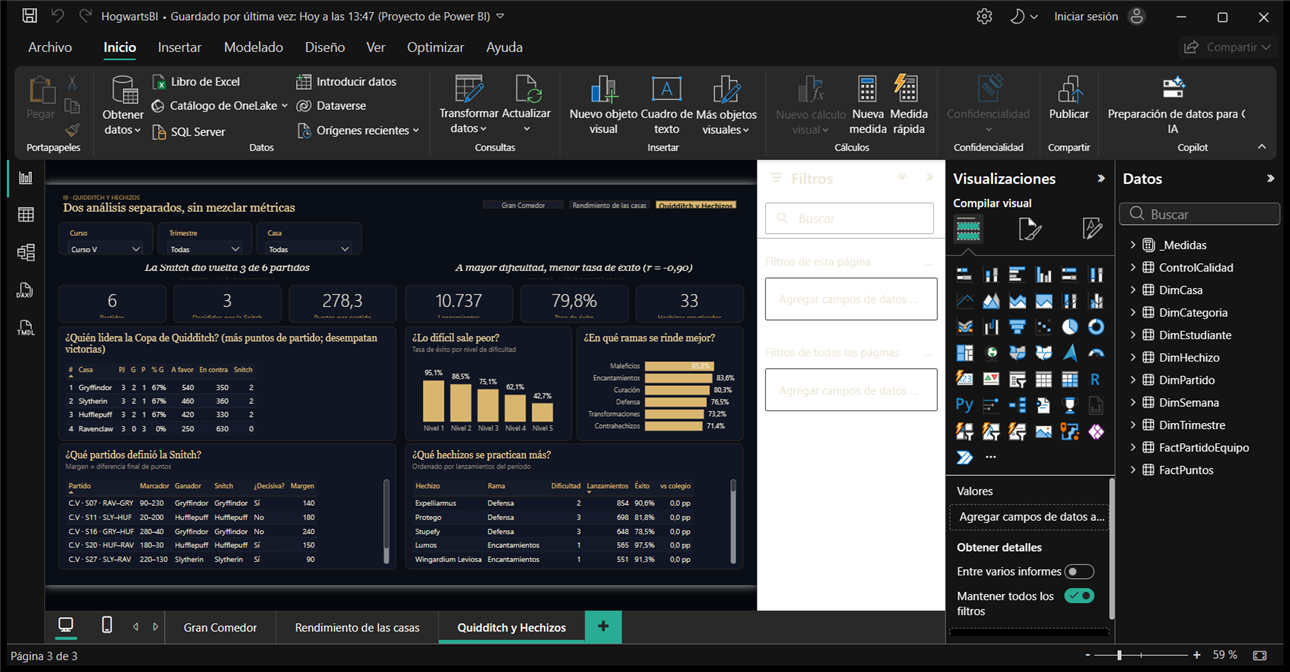

Layout of this report page (visuals, bound fields, positions):
{"tool":"powerbi","page":{"name":"Quidditch y Hechizos","canvas":[1280,720],"ordinal":2},"visuals":[{"type":"image","box":[0,0,1280,112],"z":0},{"type":"textbox","box":[26,16,600,76],"z":100},{"type":"pageNavigator","box":[752,0,495.4,42.5],"z":200},{"type":"slicer","fields":{"Values":["DimTrimestre.Curso"]},"box":[24,120,156,56],"z":300},{"type":"slicer","fields":{"Values":["DimTrimestre.Trimestre"]},"box":[188,120,156,56],"z":400},{"type":"slicer","fields":{"Values":["DimCasa.Casa"]},"box":[352,120,164,56],"z":500},{"type":"slicer","fields":{"Values":["DimHechizo.Hechizo"]},"box":[652,120,180,56],"z":600},{"type":"card","fields":{"Values":["_Medidas.Intentos"]},"box":[844,120,136,56],"z":700},{"type":"card","fields":{"Values":["_Medidas.Tasa de Éxito"]},"box":[982,120,136,56],"z":800},{"type":"card","fields":{"Values":["_Medidas.Hechizos Practicados"]},"box":[1120,120,136,56],"z":900},{"type":"image","box":[24,182,44,44],"z":1000},{"type":"card","fields":{"Values":["_Medidas.Titular Quidditch"]},"box":[76,180,552,46],"z":1100},{"type":"image","box":[652,182,44,44],"z":1200},{"type":"card","fields":{"Values":["_Medidas.Titular Hechizos"]},"box":[704,180,552,46],"z":1300},{"type":"image","box":[632,182,16,510],"z":1400},{"type":"image","box":[24,232,604,248],"z":1500},{"type":"tableEx","title":"Partidos del período: ¿cuáles definió la Snitch?","fields":{"Values":["DimPartido.Partido","DimPartido.Marcador","DimPartido.Ganador","DimPartido.Casa de la Snitch","DimPartido.¿Decidió la Snitch?","_Medidas.Margen del Partido"]},"box":[24,488,604,204],"z":1600},{"type":"scatterChart","title":"¿Lo difícil sale peor?","fields":{"Category":["DimHechizo.Hechizo"],"Series":["DimHechizo.Rama"],"Size":["_Medidas.Intentos"],"X":["Avg(DimHechizo.Dificultad)"],"Y":["_Medidas.Tasa de Éxito"]},"box":[652,232,392,220],"z":1700},{"type":"clusteredBarChart","title":"Tasa de éxito por rama","fields":{"Category":["DimHechizo.Rama"],"Y":["_Medidas.Tasa de Éxito"]},"box":[1052,232,204,220],"z":1800},{"type":"tableEx","title":"Grimorio: catálogo de hechizos","fields":{"Values":["DimHechizo.Hechizo","DimHechizo.Rama","DimHechizo.Nivel de Dificultad","DimHechizo.Año de Enseñanza","_Medidas.Intentos","_Medidas.Tasa de Éxito","_Medidas.Diferencia vs Colegio (pp)"]},"box":[652,460,604,232],"z":1900},{"type":"card","fields":{"Values":["_Medidas.Estado de Calidad"]},"box":[24,696,420,22],"z":2000},{"type":"textbox","box":[760,696,496,22],"z":2100}]}

Visuals, with their boxes on the page's 1280x720 design canvas (x1, y1, x2, y2). These are canvas units, not pixel positions in the 1290x672 screenshot, which may show the page scaled, cropped or inside an application window:
image: <box>0,0,1280,112</box>
textbox: <box>26,16,626,92</box>
pageNavigator: <box>752,0,1247,42</box>
slicer - DimTrimestre.Curso: <box>24,120,180,176</box>
slicer - DimTrimestre.Trimestre: <box>188,120,344,176</box>
slicer - DimCasa.Casa: <box>352,120,516,176</box>
slicer - DimHechizo.Hechizo: <box>652,120,832,176</box>
card - _Medidas.Intentos: <box>844,120,980,176</box>
card - _Medidas.Tasa de Éxito: <box>982,120,1118,176</box>
card - _Medidas.Hechizos Practicados: <box>1120,120,1256,176</box>
image: <box>24,182,68,226</box>
card - _Medidas.Titular Quidditch: <box>76,180,628,226</box>
image: <box>652,182,696,226</box>
card - _Medidas.Titular Hechizos: <box>704,180,1256,226</box>
image: <box>632,182,648,692</box>
image: <box>24,232,628,480</box>
"Partidos del período: ¿cuáles definió la Snitch?" tableEx: <box>24,488,628,692</box>
"¿Lo difícil sale peor?" scatterChart: <box>652,232,1044,452</box>
"Tasa de éxito por rama" clusteredBarChart: <box>1052,232,1256,452</box>
"Grimorio: catálogo de hechizos" tableEx: <box>652,460,1256,692</box>
card - _Medidas.Estado de Calidad: <box>24,696,444,718</box>
textbox: <box>760,696,1256,718</box>
